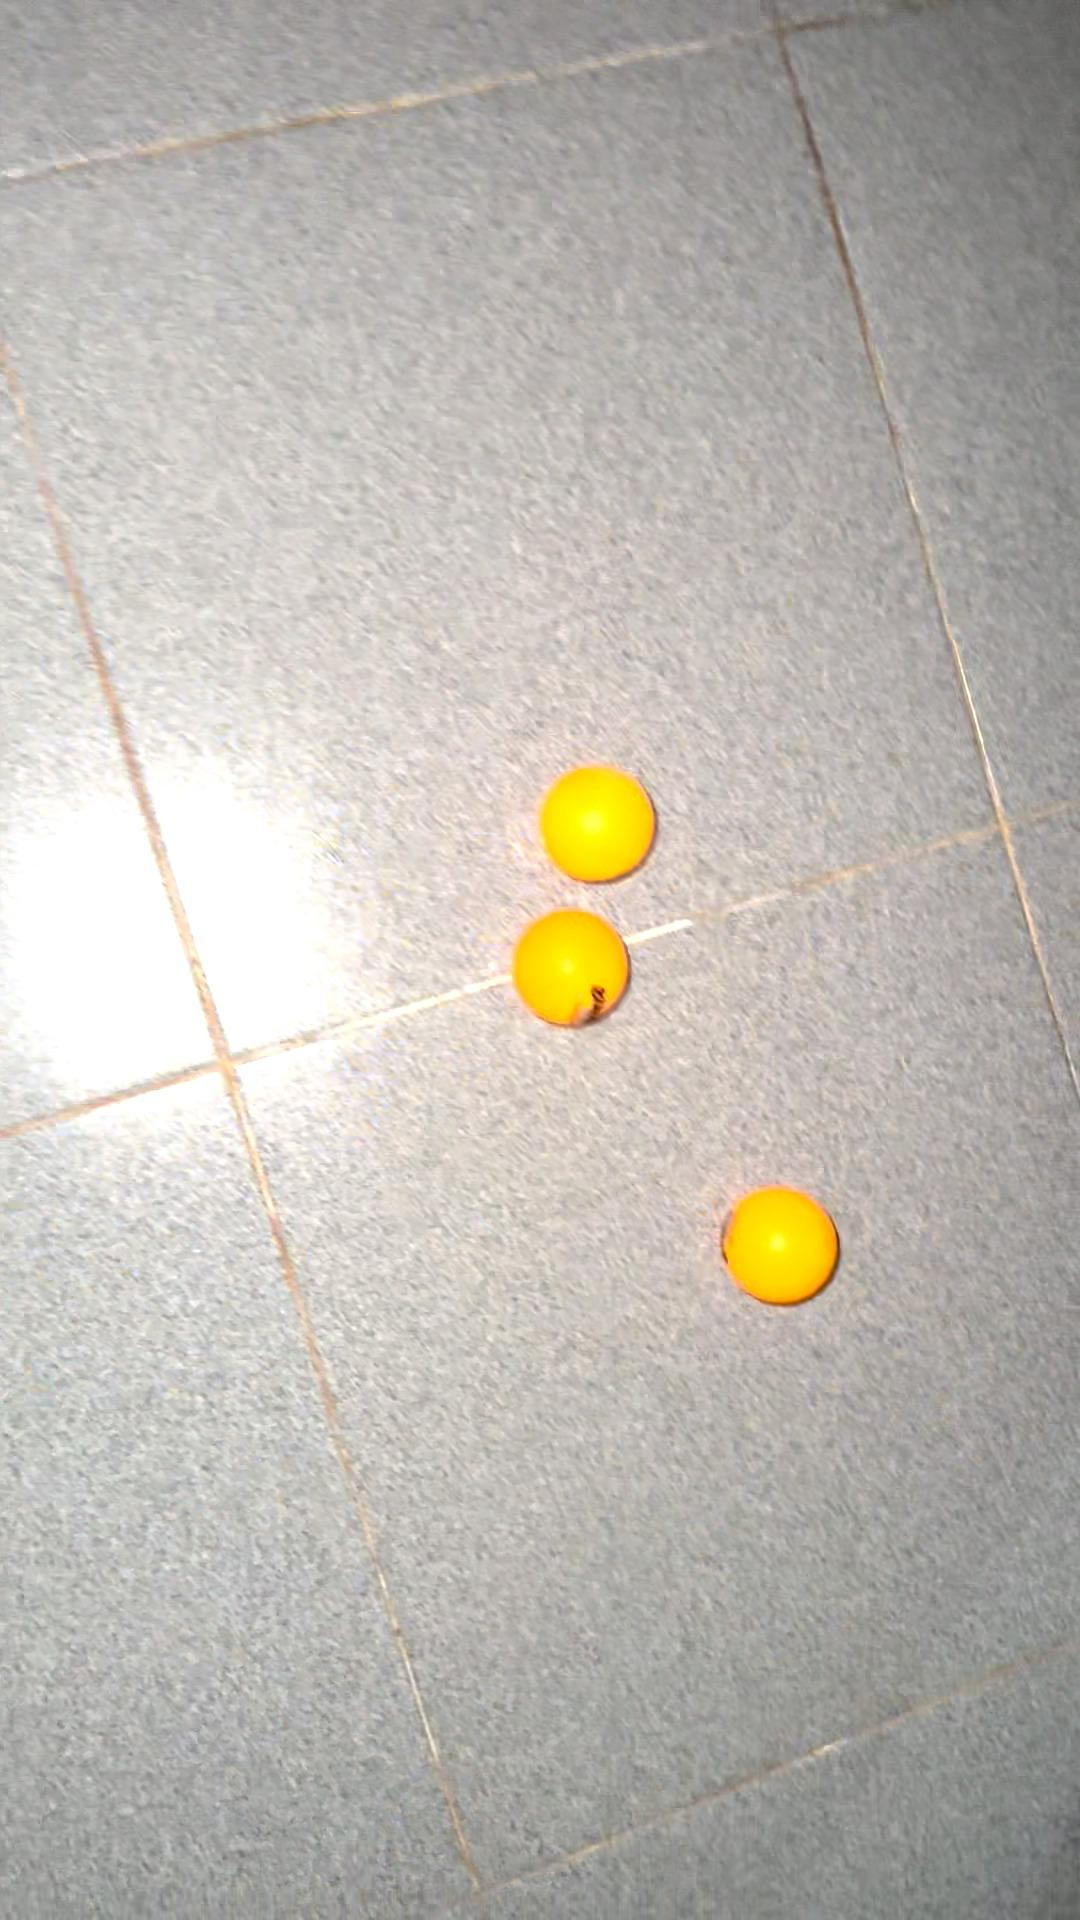oball: (711, 1164, 853, 1317), (508, 905, 637, 1033), (545, 758, 663, 889)
